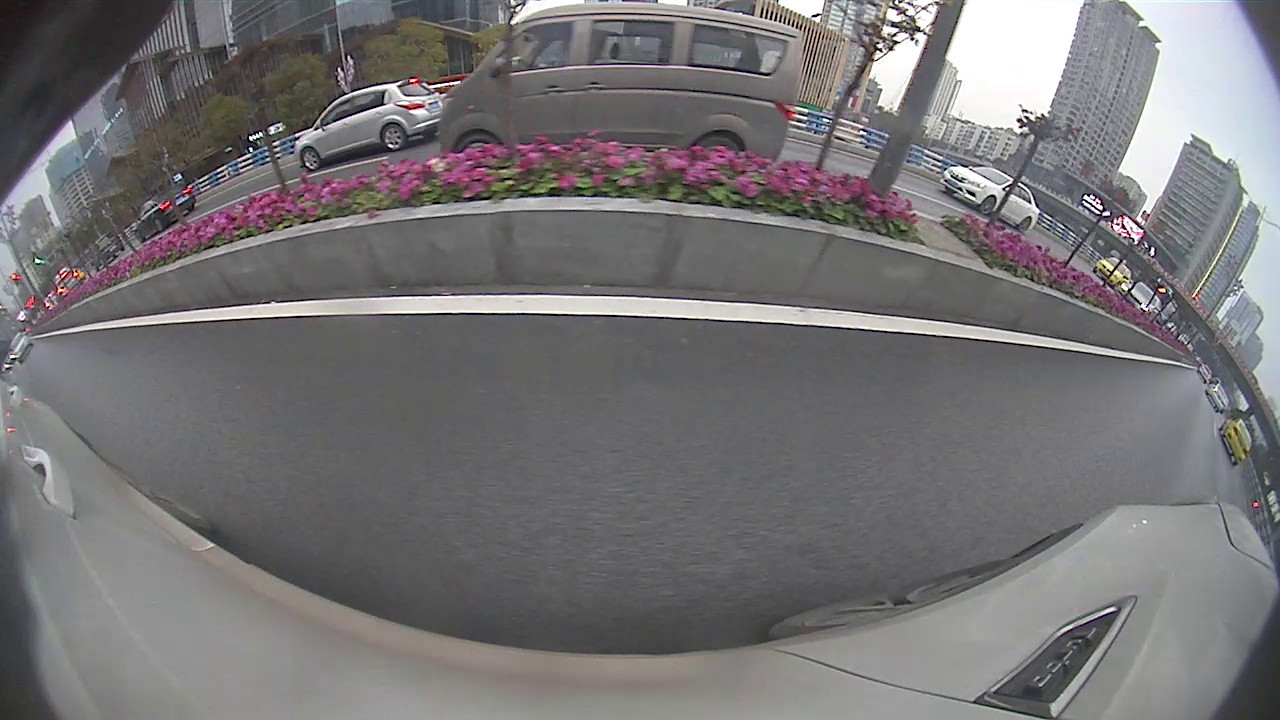car: (438, 2, 807, 152), (1218, 416, 1254, 467)
front: (452, 128, 509, 155), (299, 149, 322, 173), (983, 194, 997, 215)
rear: (694, 128, 746, 155), (382, 121, 410, 152)
